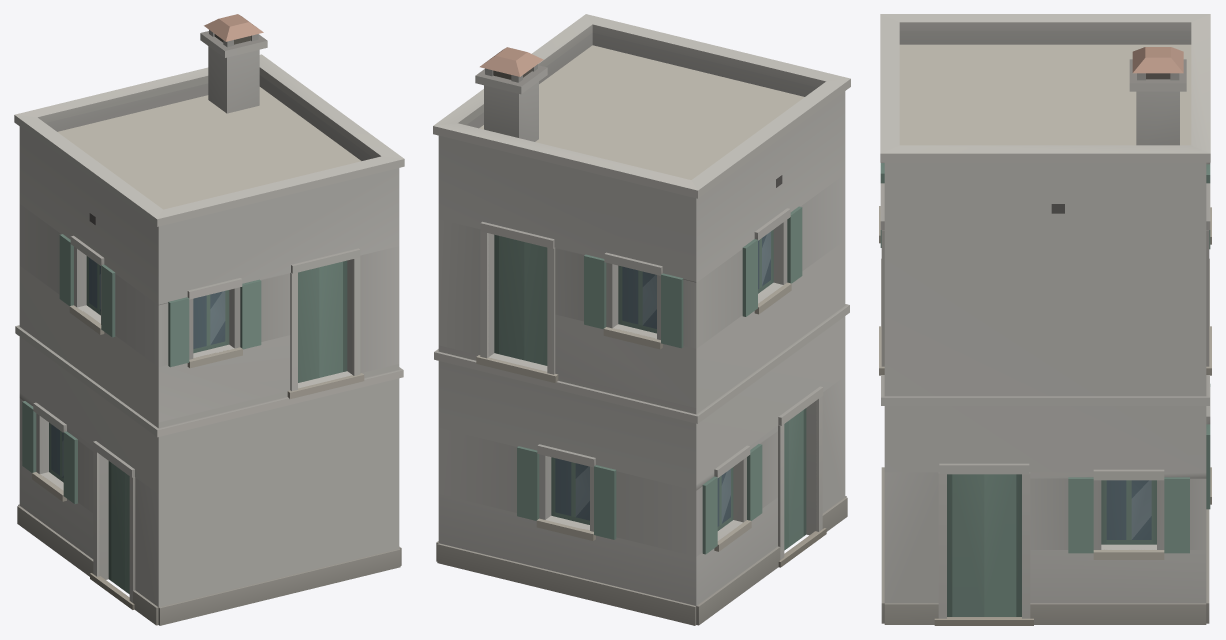
3 views of the same model, side by side, from view 1: azimuth 30°, elevation 25°; view 2: azimuth 150°, elevation 25°; view 3: azimuth 270°, elevation 25° (orthographic). The views are drawn at different scales.
Bounding box in the file's own units: 4.43 × 8 × 4.43.
